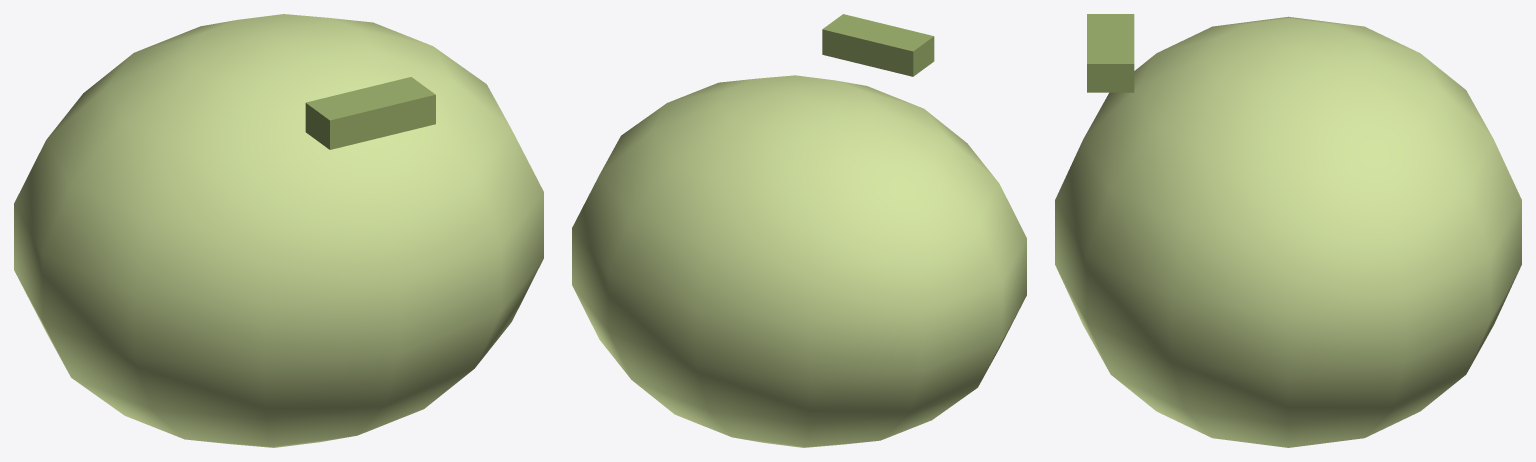
File: haba.glb
The picture shows the model from 3 angles, left to right: view 1: azimuth 30°, elevation 25°; view 2: azimuth 150°, elevation 25°; view 3: azimuth 270°, elevation 25°; orthographic projection. The views are drawn at different scales.
Visible parts, largest first — view 1: cuerpo, ombligo; view 2: cuerpo, ombligo; view 3: cuerpo, ombligo.
Part boxes in pixels (x1,y1,x2,y2): cuerpo: [14, 14, 543, 447]; ombligo: [305, 77, 435, 149]; cuerpo: [572, 75, 1026, 447]; ombligo: [822, 14, 934, 76]; cuerpo: [1055, 16, 1521, 447]; ombligo: [1087, 14, 1134, 92].
Bounding box in the file's own units: 0.1339 × 0.106 × 0.1182.
